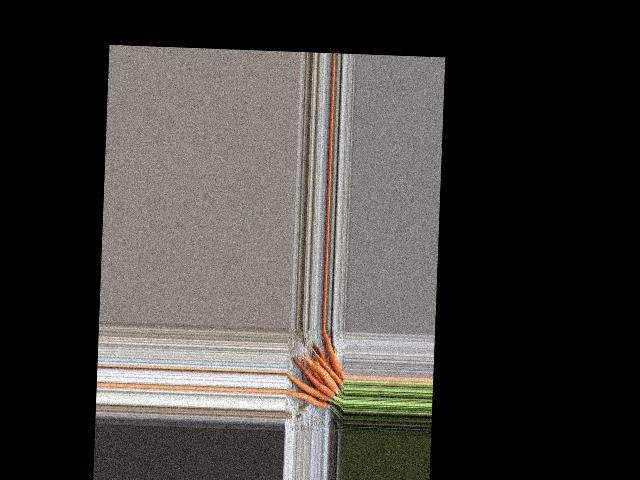carrot: (319, 330, 346, 383)
